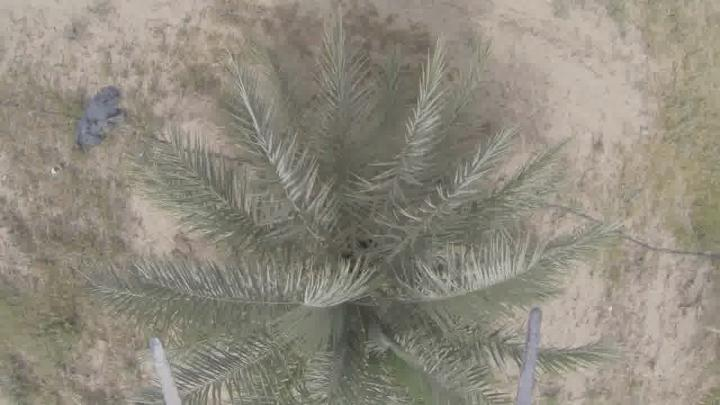Date-Palm-Crown: (178, 119, 507, 405)
